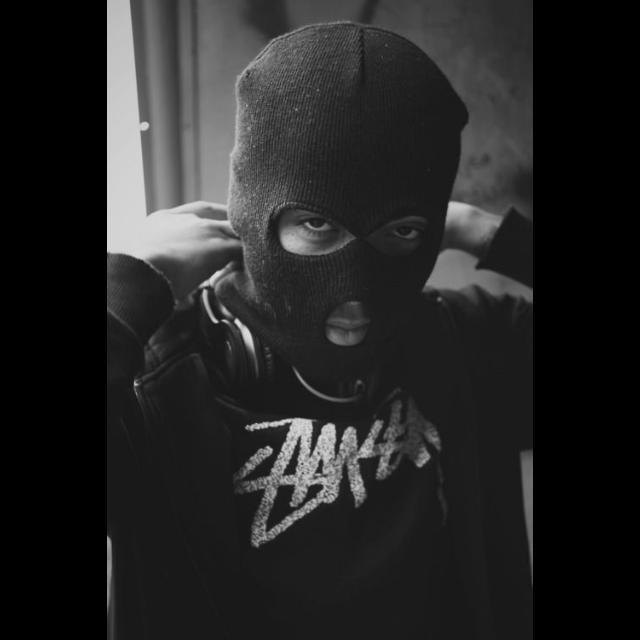criminal: (107, 20, 535, 640)
